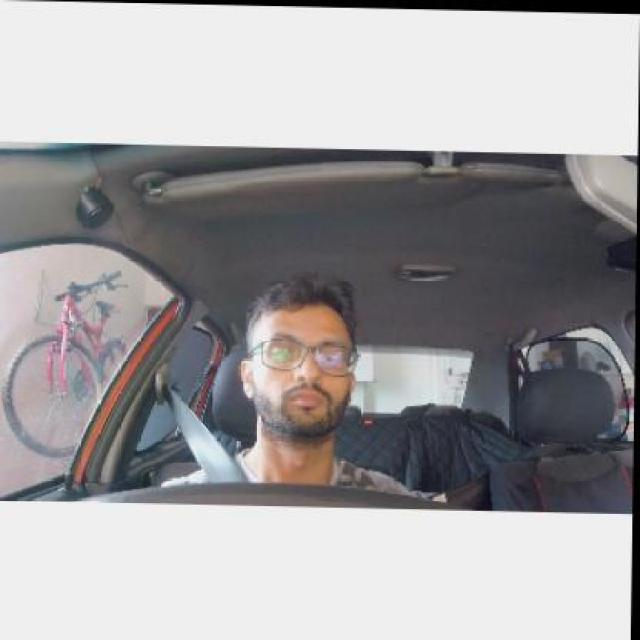person: (243, 268, 394, 468)
